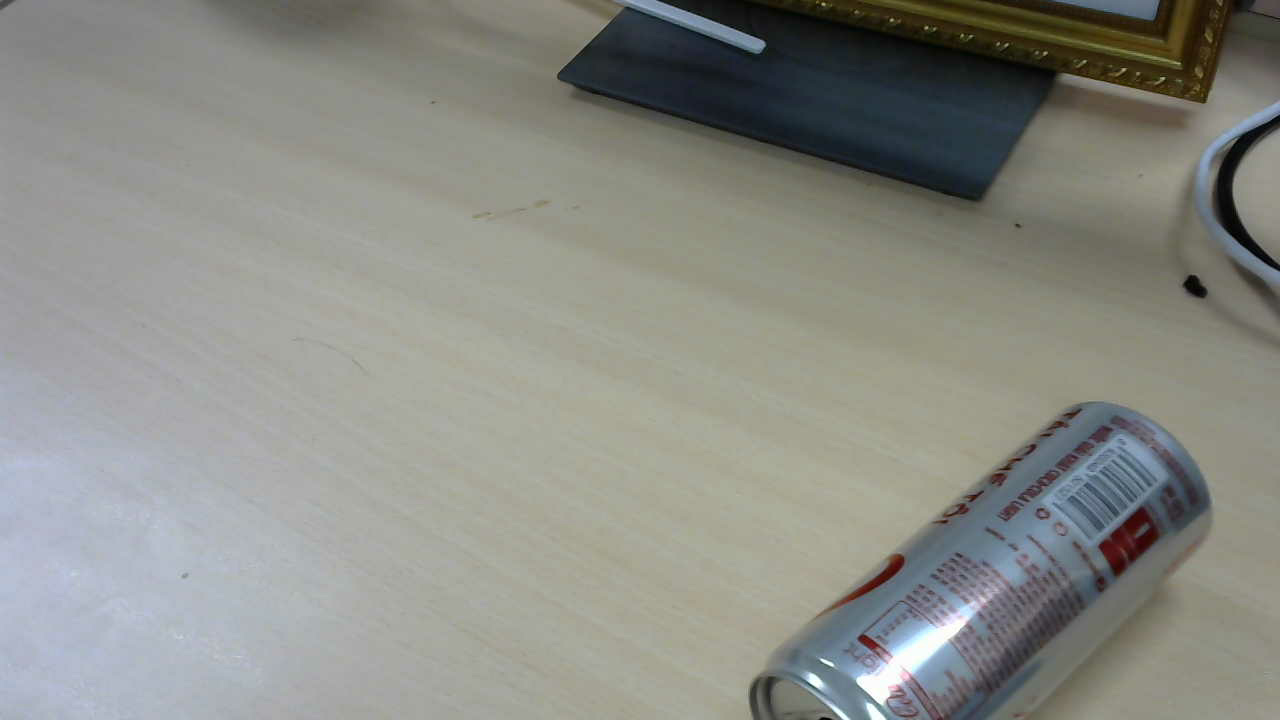Coca_Cola: (751, 403, 1219, 699)
